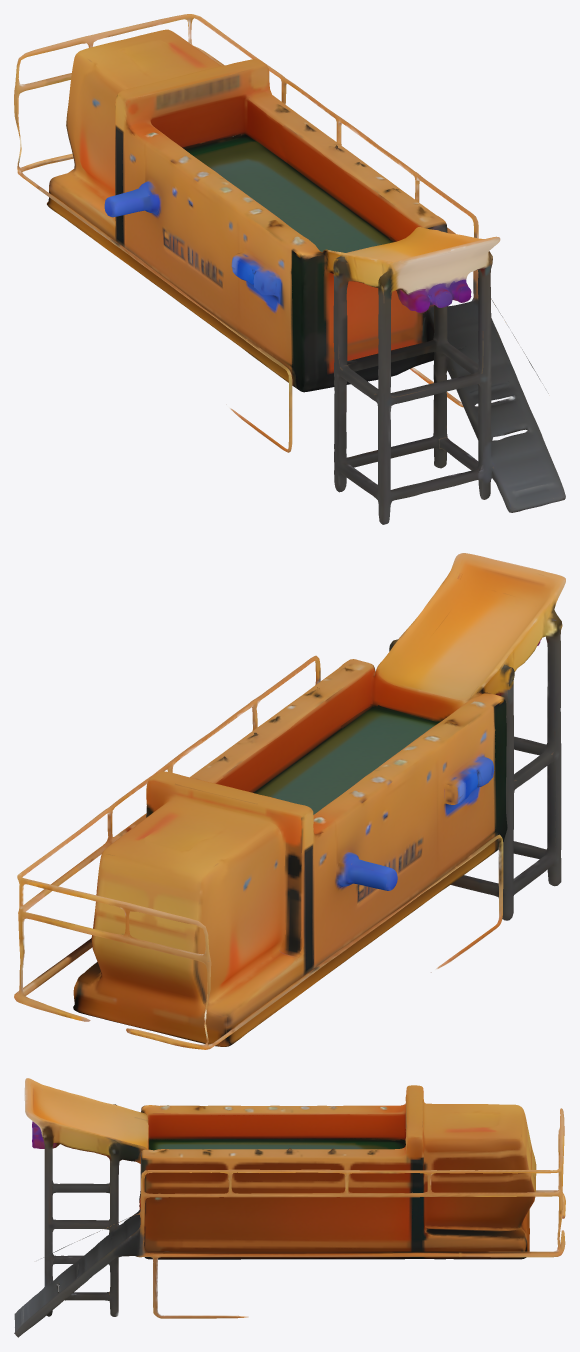
Rendered from ECS_Premium.fbx.
The picture shows the model from 3 angles, top to bottom: view 1: azimuth 30°, elevation 25°; view 2: azimuth 150°, elevation 25°; view 3: azimuth 270°, elevation 25°; orthographic projection. The views are drawn at different scales.
Parts seen in each view (by area): view 1: model; view 2: model; view 3: model.
Boxes of the visible parts, left/top/right/bottom form: model: left=14, top=14, right=565, bottom=524; model: left=14, top=553, right=565, bottom=1049; model: left=14, top=1078, right=565, bottom=1337.
Bounding box in the file's own units: 66.9 × 78.08 × 191.
